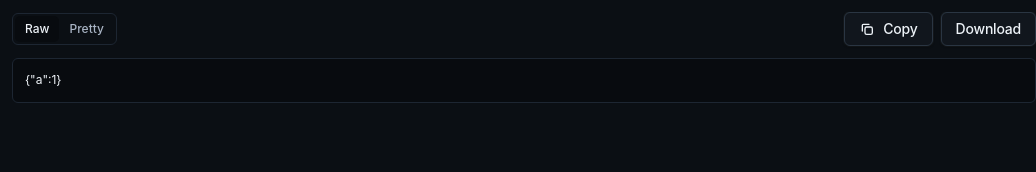
Test case: PayloadViewer › fetches a small text body and shows RAW by default, with a Pretty toggle
expect the text "{\"a\":1}" is shown: met, box [12,58,1035,103]
// opt into Pretty → formatted
Click the button "Pretty" at [87, 29], box [60,16,114,42]
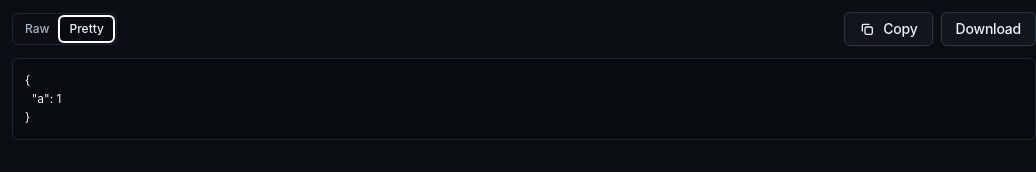
expect the text "{ \"a\": 1 }" shows "\"a\": 1": met, box [25,72,61,124]
